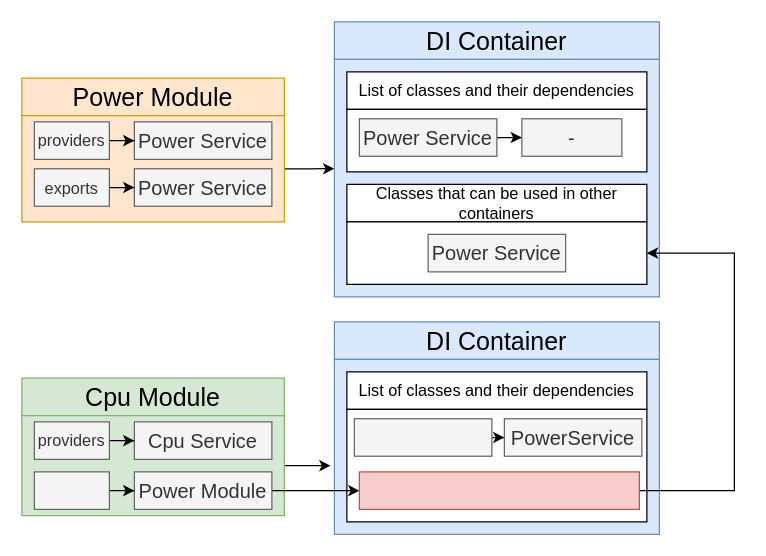
Some shapes in this 766 by 556 pixel diagram are drawn without their labels. The box of each missing label's shape, as (x1, y1, x2, y2) in pixels:
+ Everything listed as an export from PowerModule: (358, 471, 639, 509)
CpuService: (353, 418, 492, 456)
imports: (33, 471, 109, 509)
